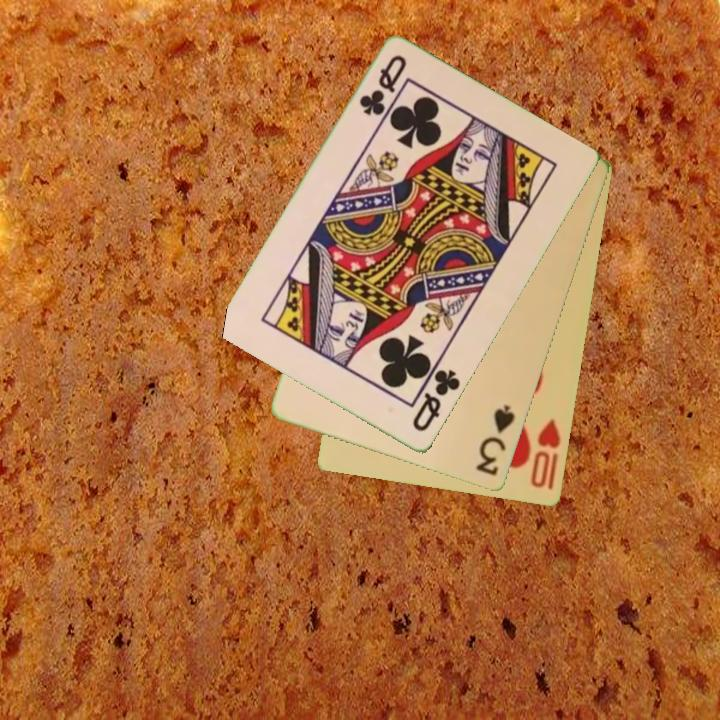10h: (527, 416, 564, 491)
3s: (472, 401, 519, 479)
Qc: (409, 366, 464, 436), (355, 51, 410, 120)
